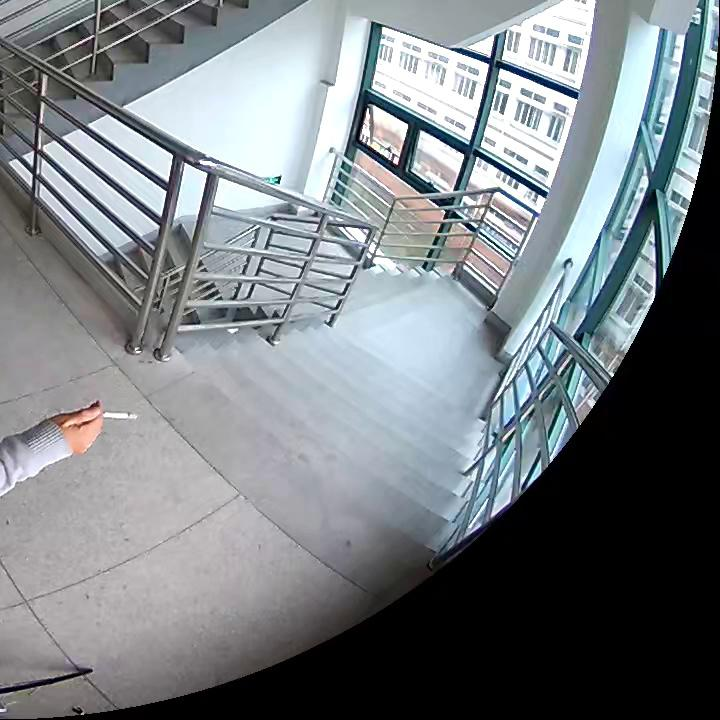handsmoke: (50, 400, 136, 457)
